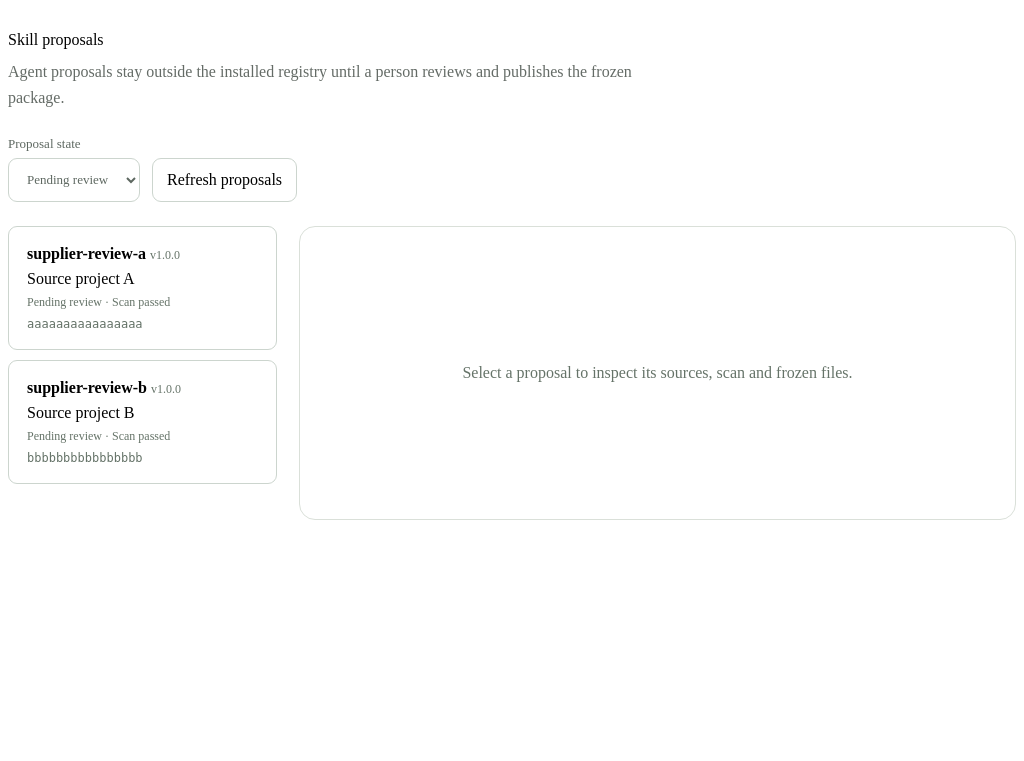
Scenario: SkillProposalsPanel › requires a rejection reason but permits rejecting an unsafe candidate
Click the button that starts with "supplier-review-a" at (87, 253), box [8,226,277,350]
(page scrolled)
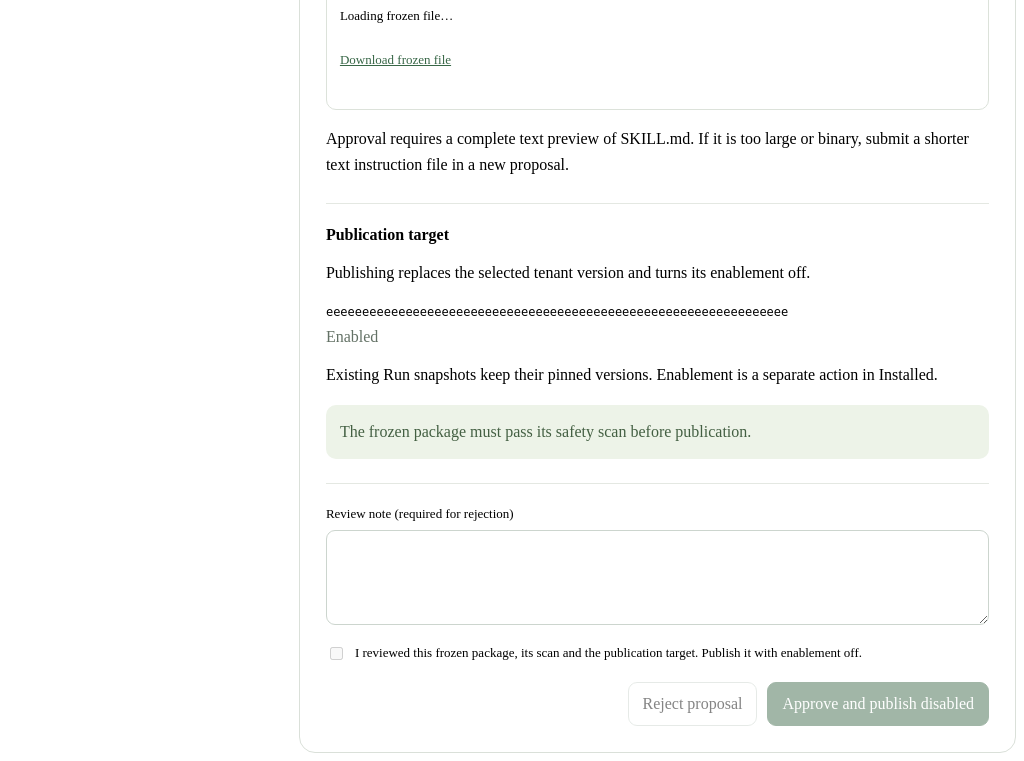
Check: the button "Approve and publish disabled" is disabled, box [768,682,989,726]
Check: the button "Reject proposal" is disabled, box [628,682,758,726]
Type "Remove the remote command." into the text box at (657, 578), box [326,530,989,625]
(page scrolled)
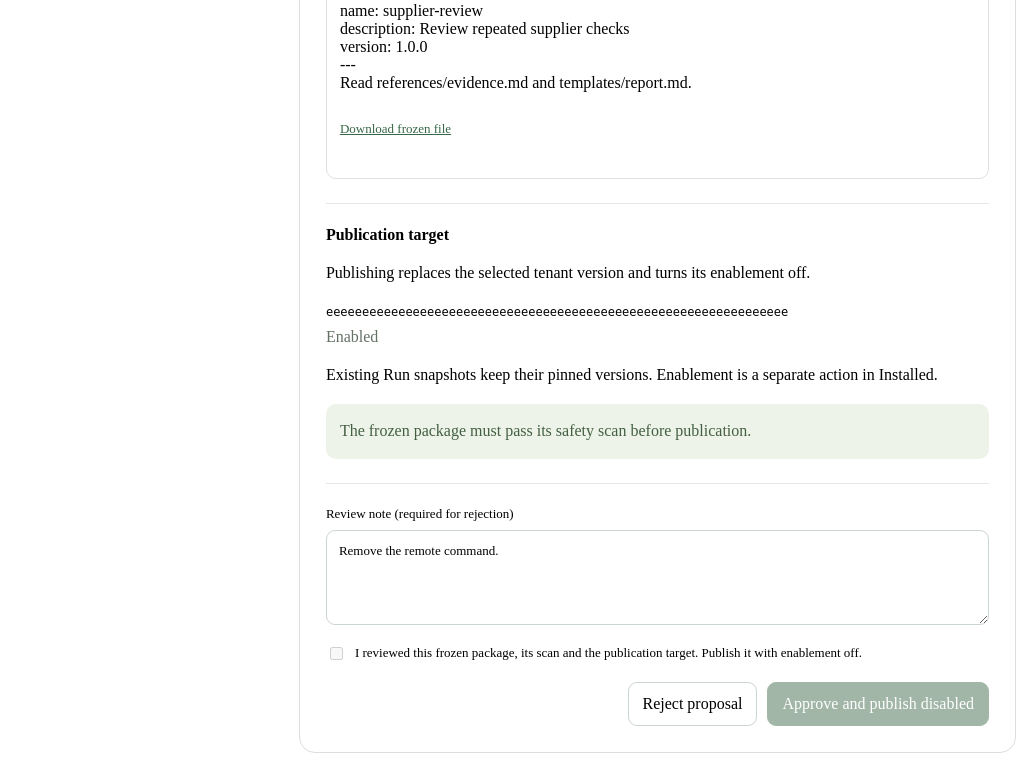
Click the button "Reject proposal" at (692, 704), box [628,682,758,726]
(page scrolled)
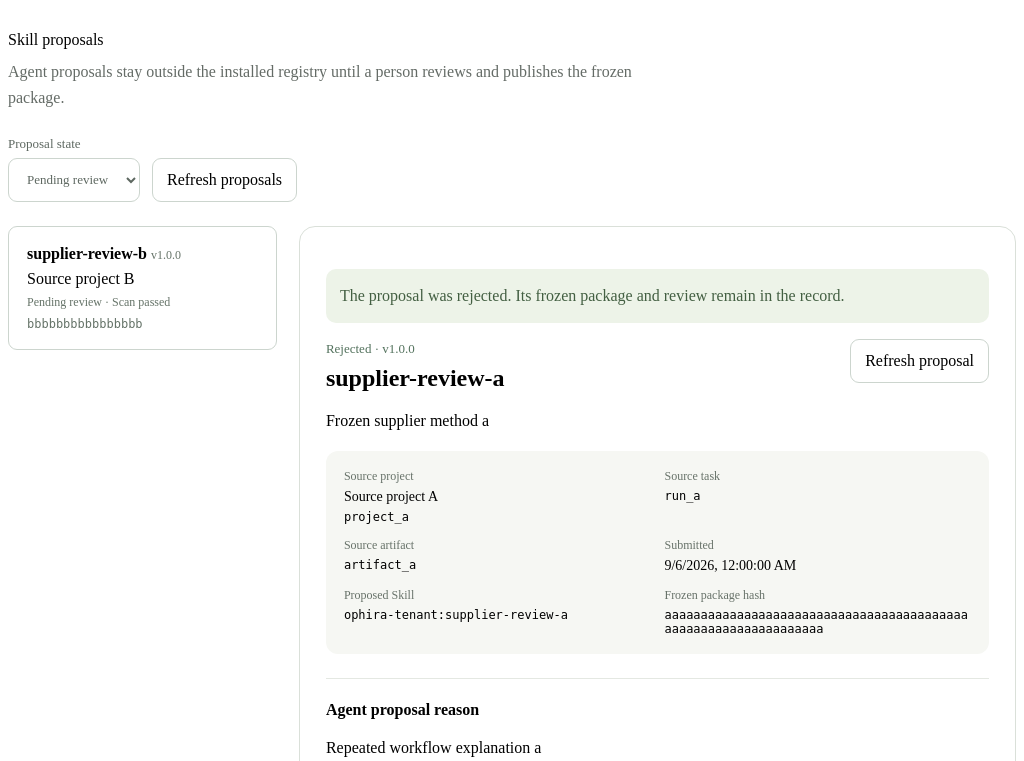
Check: the text "The proposal was rejected. Its frozen package and review remain in the record." is shown, box [326,269,989,323]
